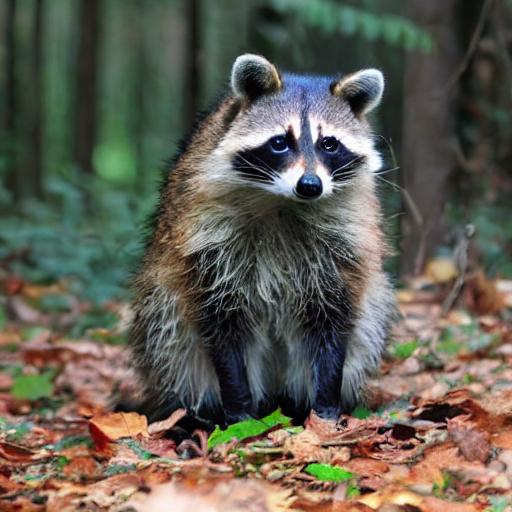raccoon: (121, 45, 417, 434)
